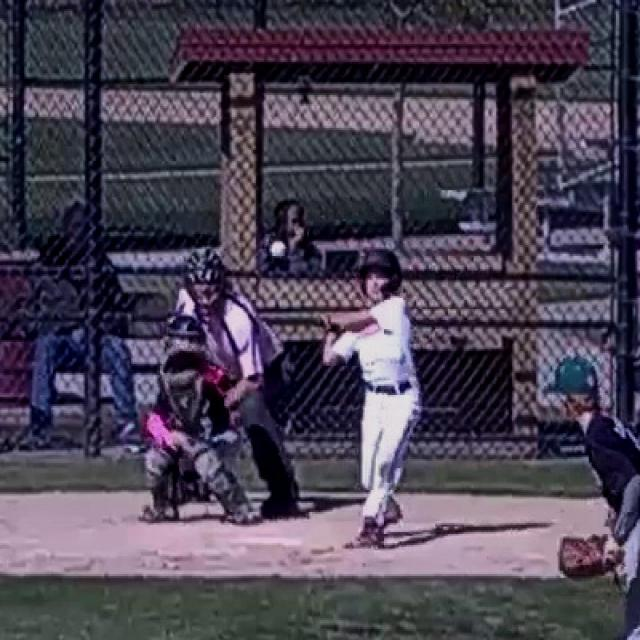baseball: (271, 242, 285, 256)
